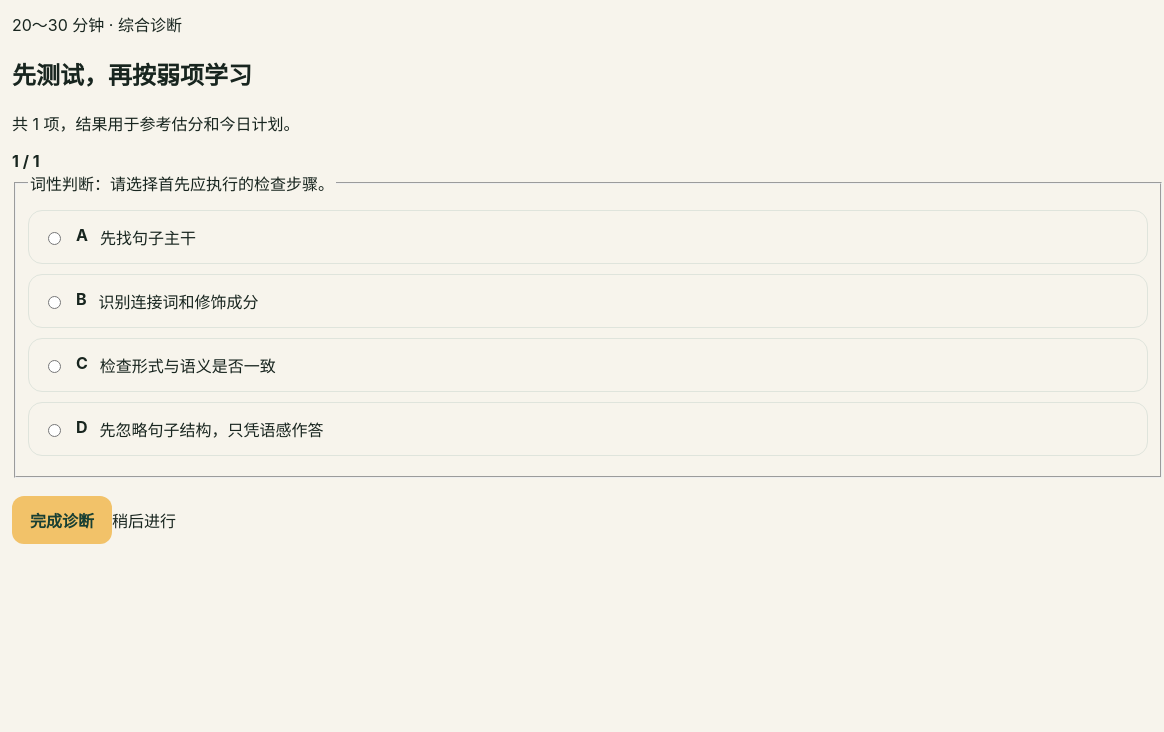
Test: foundation diagnostic › keeps the current answer and offers retry when saving an answer fails
Click the radio button labelled "A 先找句子主干" at (54, 239), box [48, 228, 61, 249]
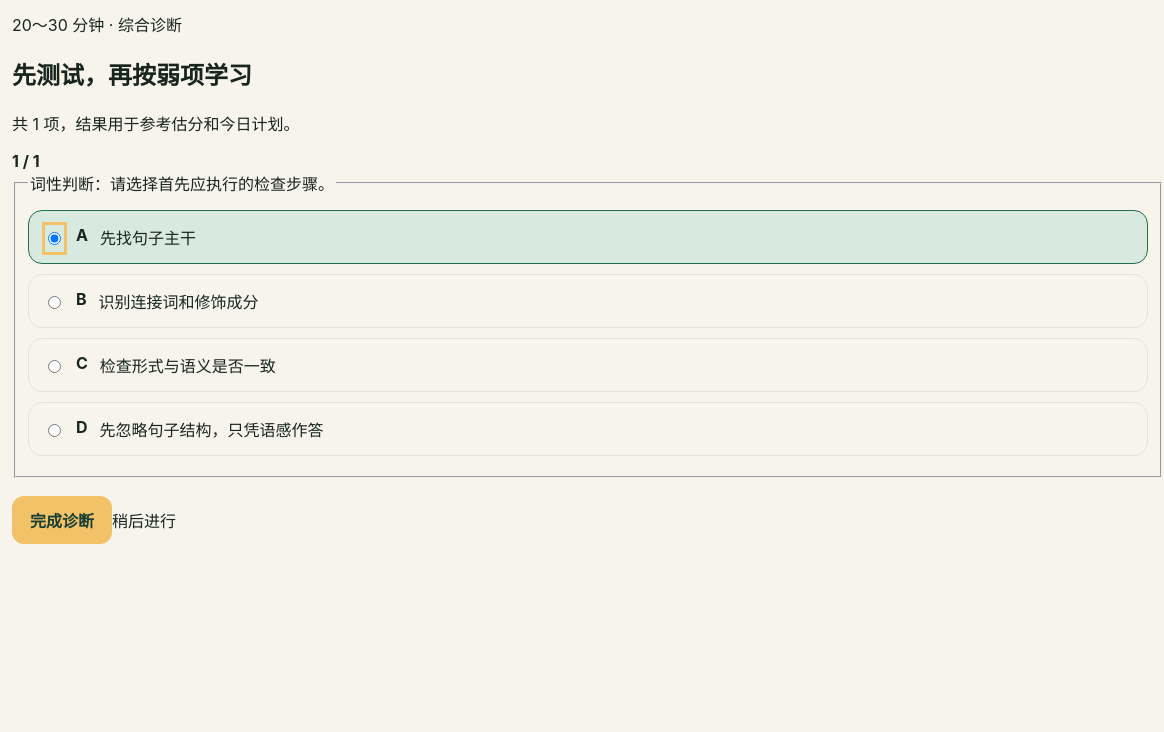
Click the button "完成诊断" at (62, 520), box [12, 496, 112, 544]
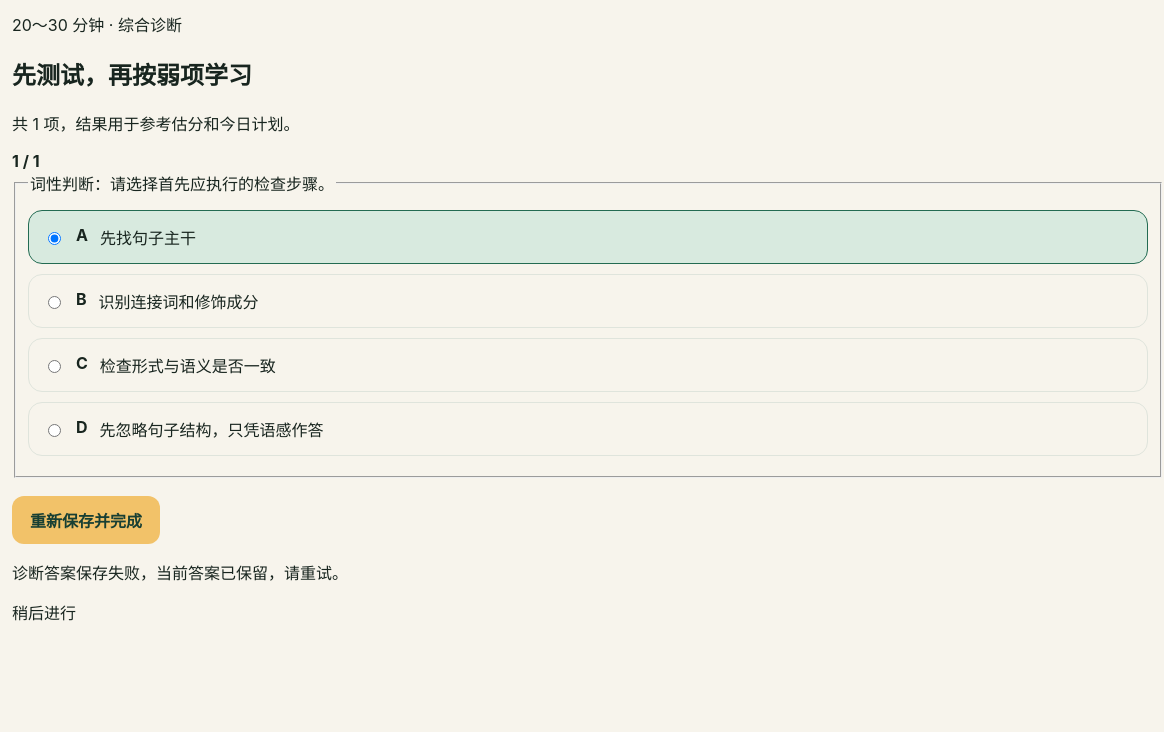
expect the radio button labelled "A 先找句子主干" is checked: met, box [48, 228, 61, 249]
expect the button "重新保存并完成" is enabled: met, box [12, 496, 160, 544]
expect the message shows "保存失败": met, box [12, 563, 348, 583]
